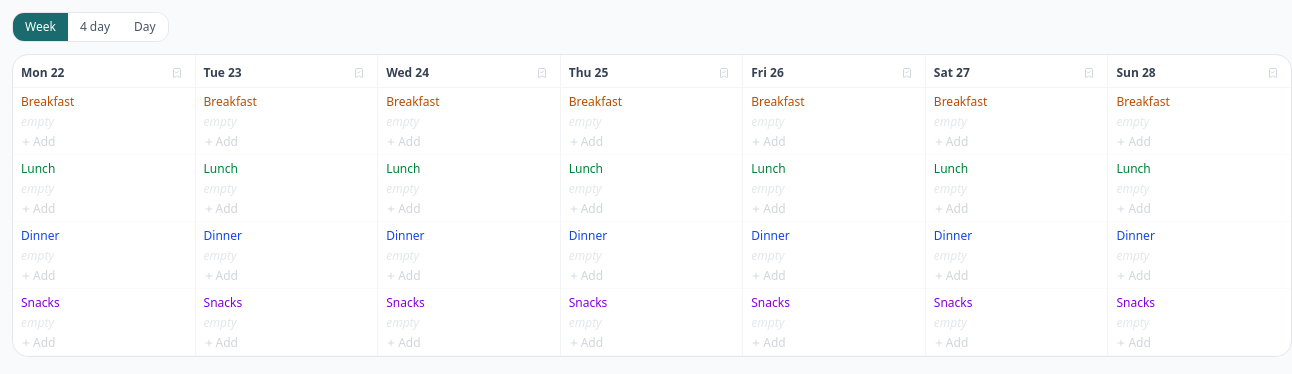
Test: CalendarView › switches to 4-day layout (AC-057)
This screenshot has width=1292, height=374.
Click the button "4 day". click: (95, 27)
box: [68,13,122,41]
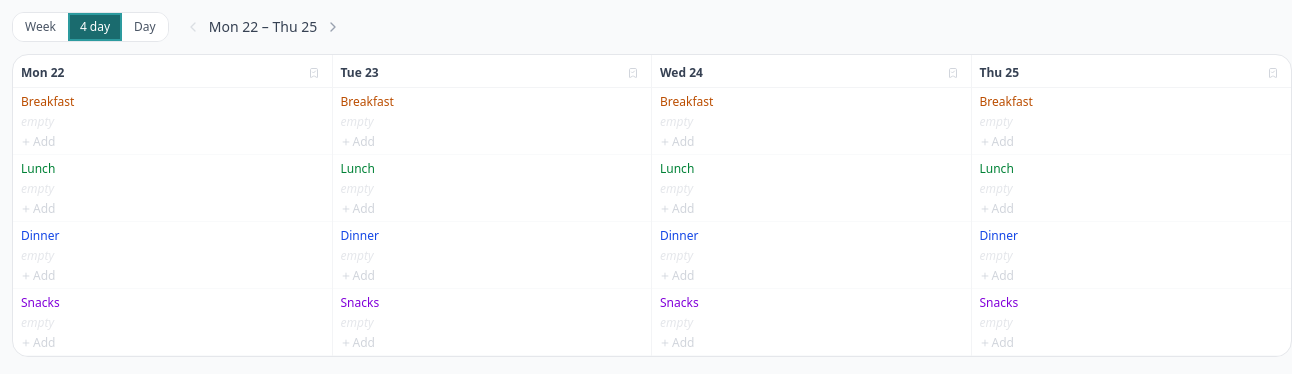
Expected: the text "Breakfast" is shown 4 times, [21,93,74,110]; [340,93,394,110]; [660,93,713,110]; [980,93,1033,110]
Expected: the text "Lunch" is shown 4 times, [21,160,55,177]; [340,160,375,177]; [660,160,694,177]; [980,160,1014,177]
